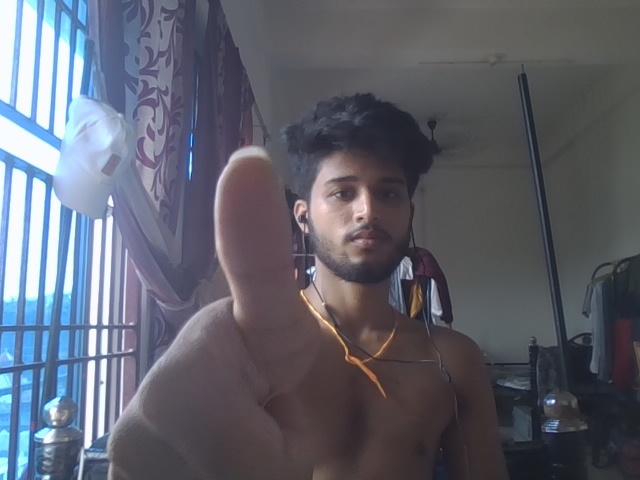Great: (68, 119, 328, 480)
